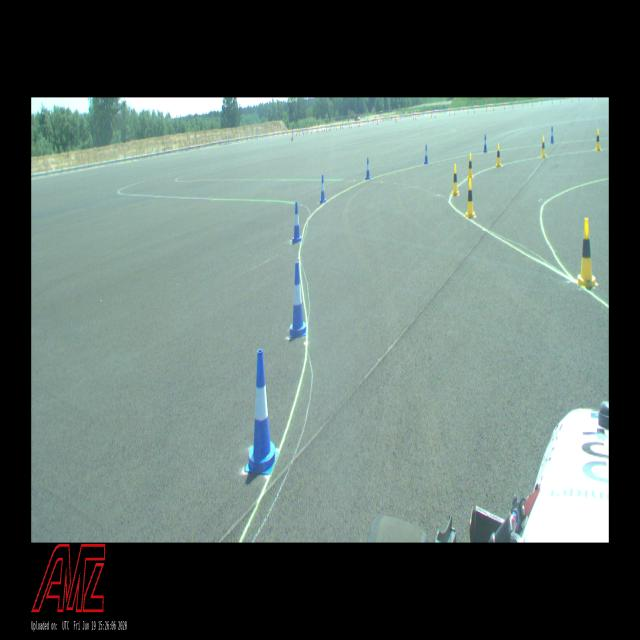blue_cone: (245, 350, 279, 473), (290, 262, 306, 338), (292, 202, 302, 243), (320, 175, 326, 202), (366, 158, 370, 179), (424, 144, 428, 164), (483, 135, 487, 152), (550, 126, 554, 142)
yellow_cone: (578, 218, 598, 286), (466, 179, 475, 217), (452, 164, 459, 195), (468, 153, 473, 179), (541, 136, 546, 158), (496, 144, 501, 166), (596, 130, 600, 150)
